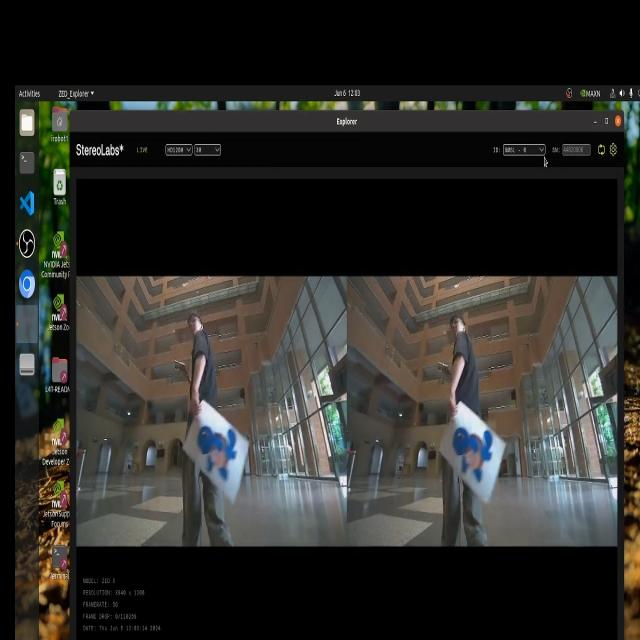blue: (198, 416, 242, 481), (453, 420, 499, 482)
